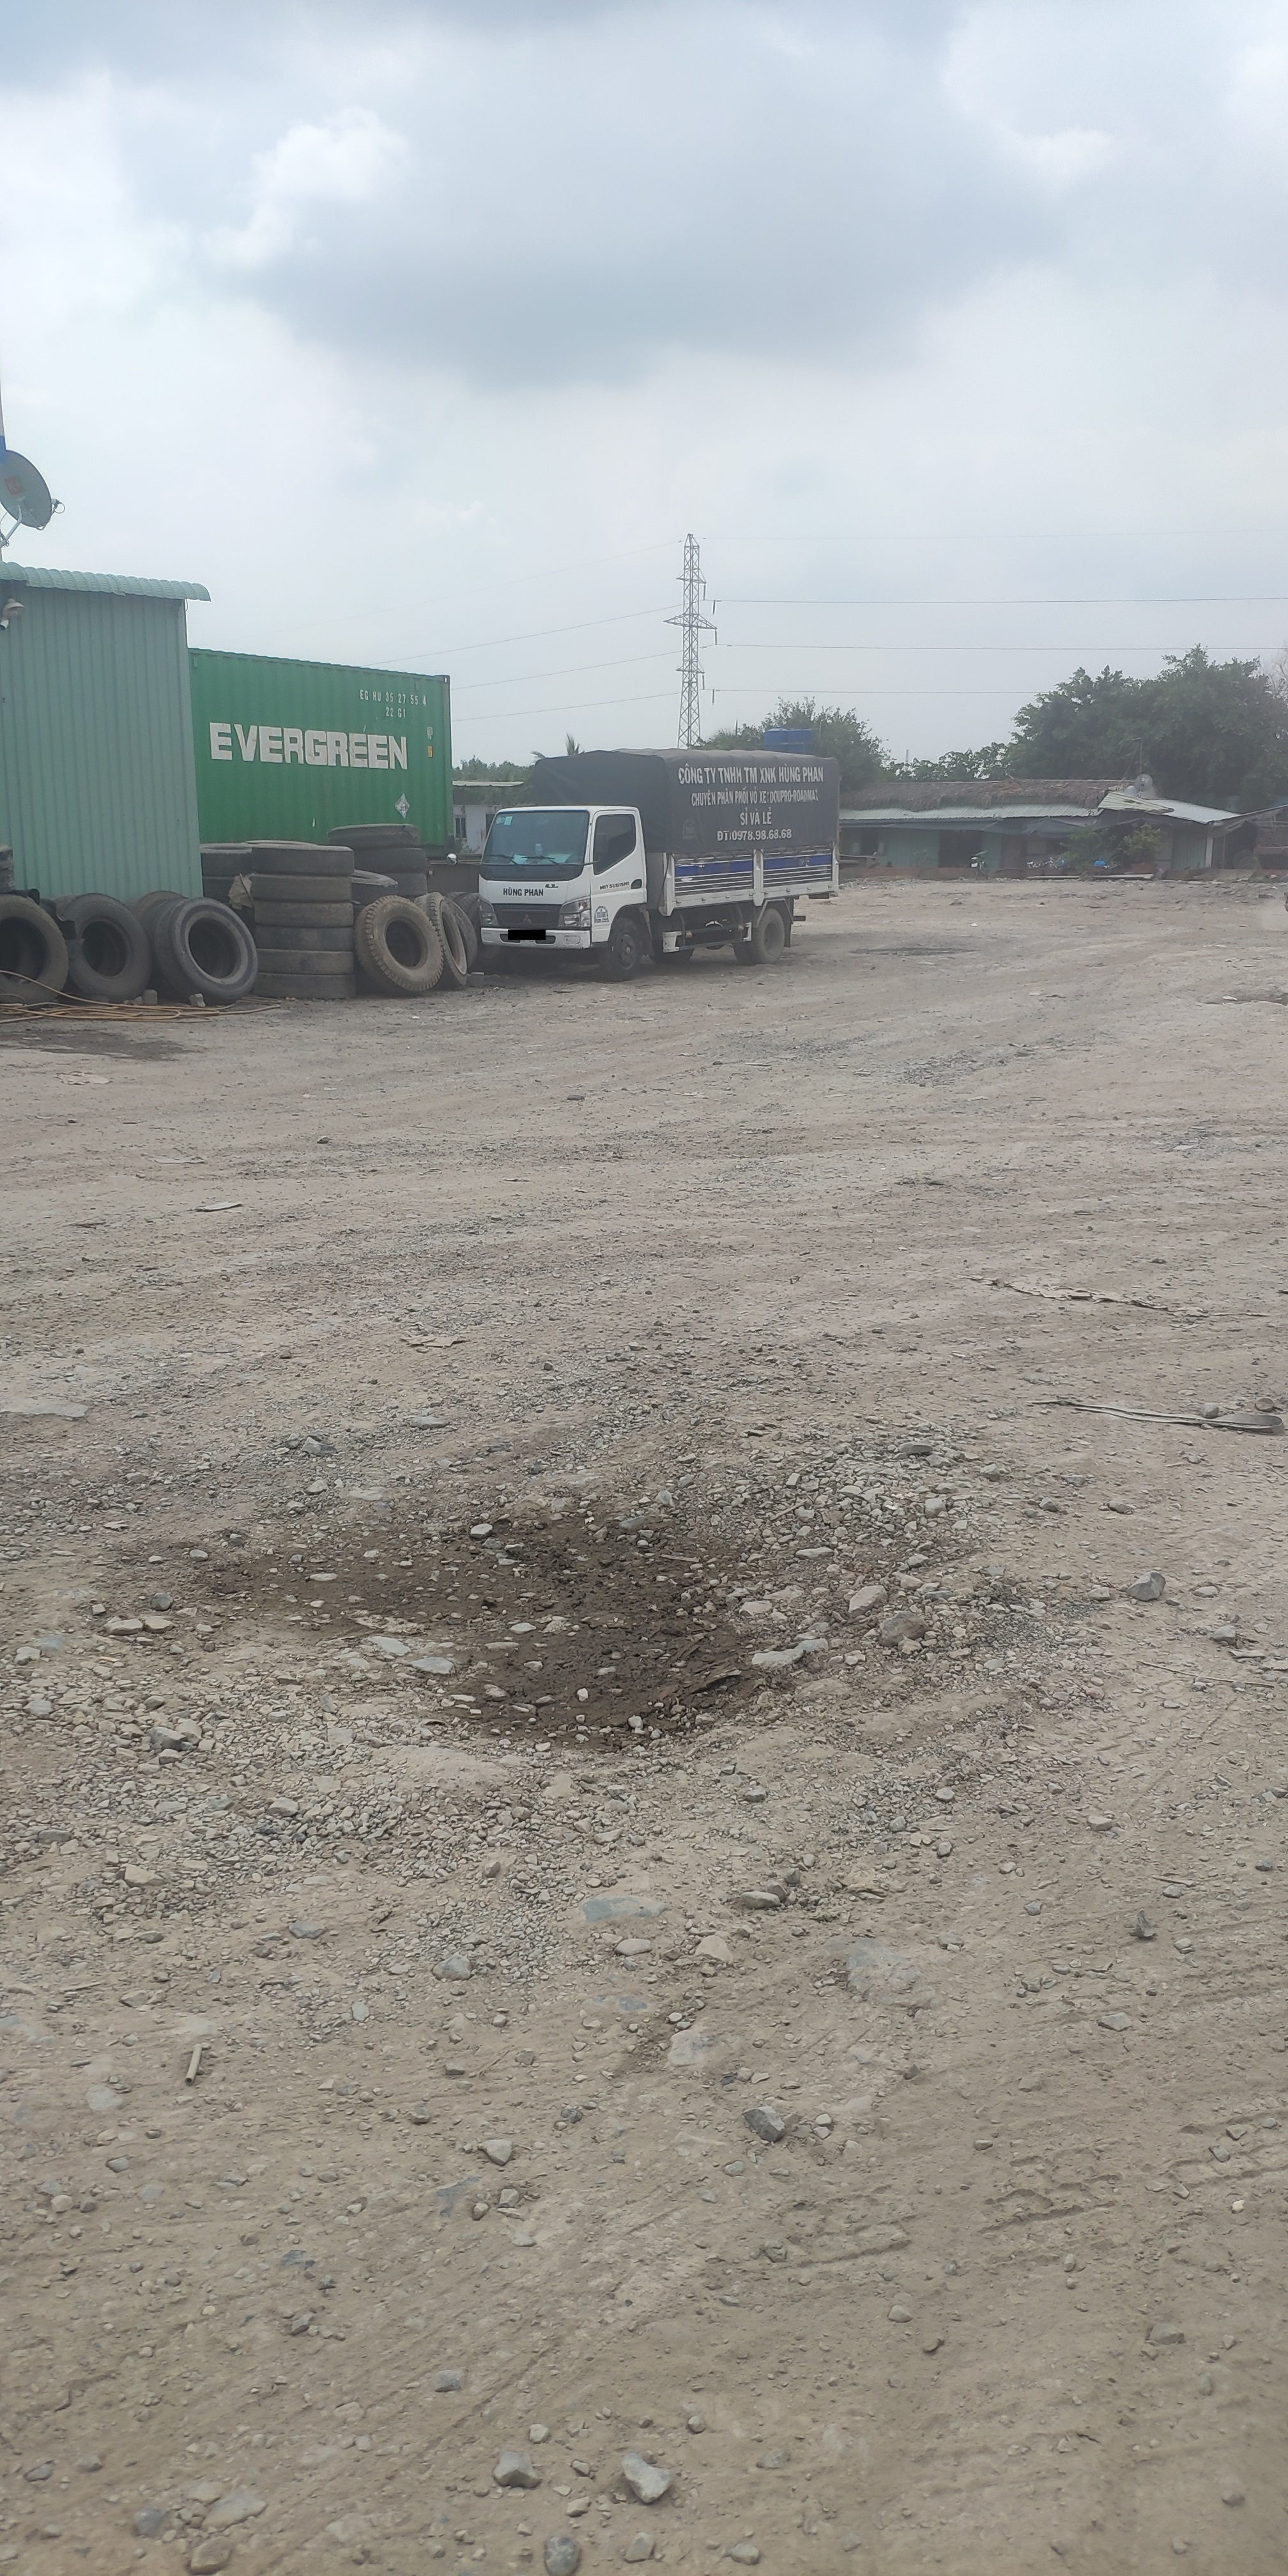hole: (296, 1462, 915, 1774), (881, 1038, 1022, 1091), (1188, 984, 1288, 1009), (843, 943, 982, 958)
